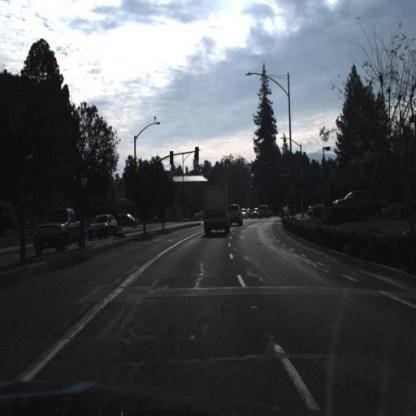car: (34, 209, 88, 259), (200, 183, 234, 239), (332, 188, 387, 219), (88, 213, 123, 243), (113, 211, 143, 231), (120, 209, 141, 231), (228, 203, 245, 229), (256, 203, 272, 222), (280, 201, 293, 219)
truck: (203, 185, 230, 239)
